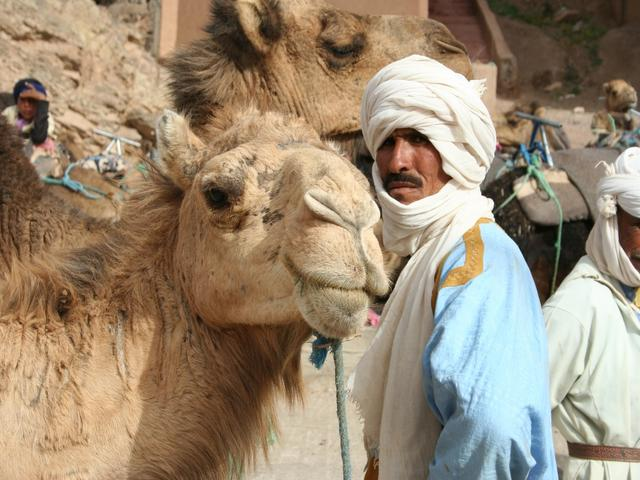camel: (95, 94, 479, 476)
